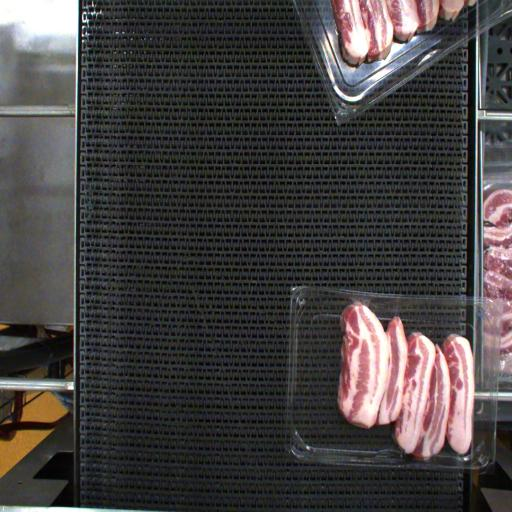packaging-error: (349, 286, 378, 311)
